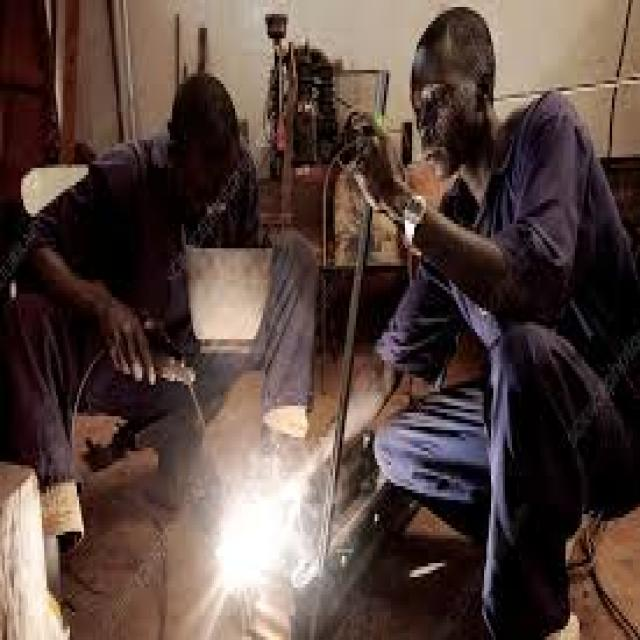without_helmet: (361, 0, 570, 273), (94, 37, 272, 235)
